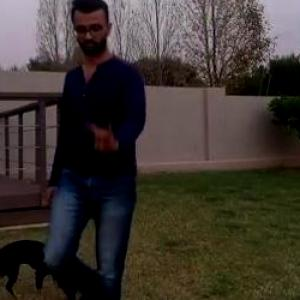takeoff-hand: (82, 114, 127, 156)
